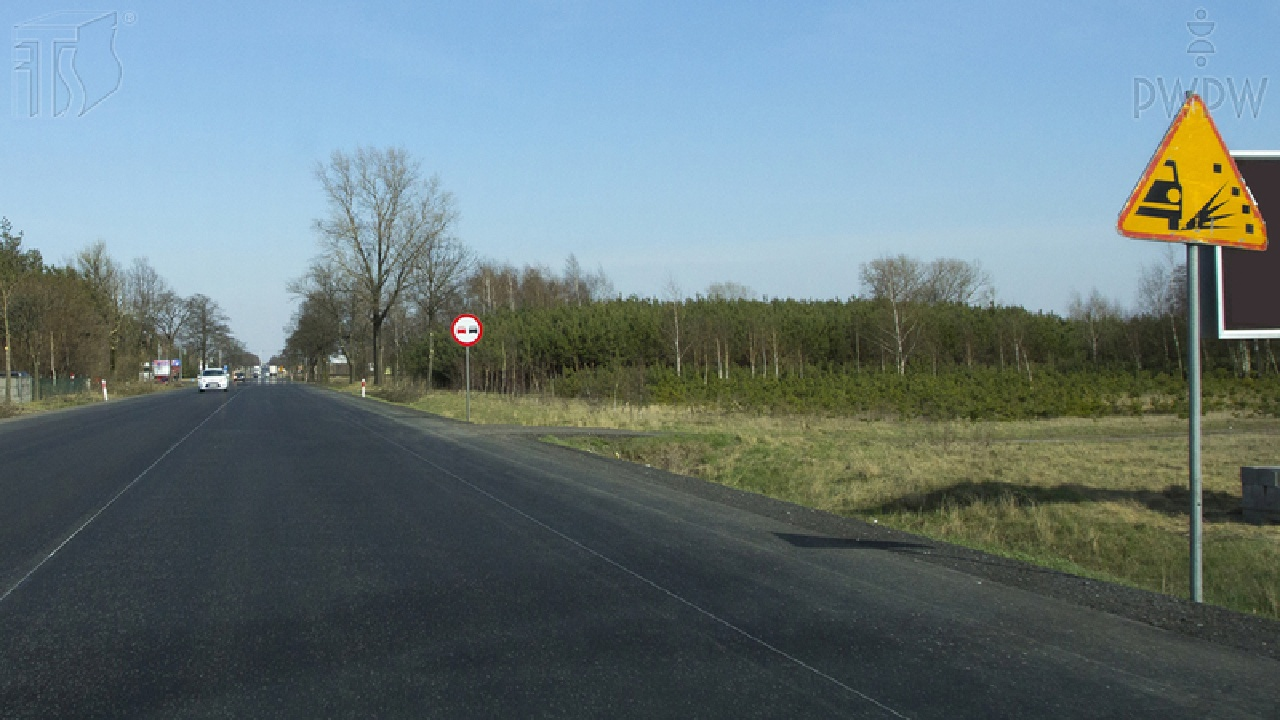A28: (1116, 93, 1269, 251)
B25: (450, 313, 484, 346)
